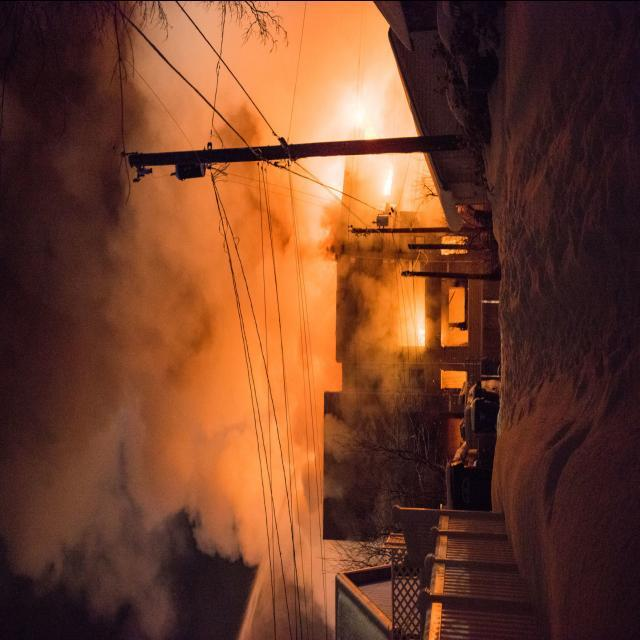Fire: (290, 8, 466, 392)
